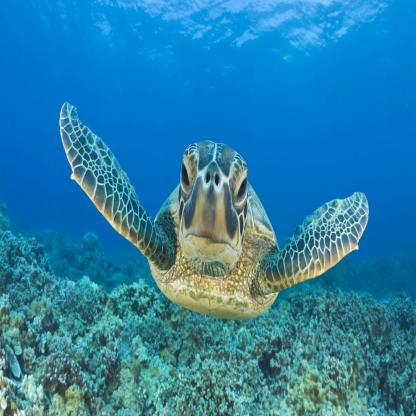turtle: (176, 133, 251, 288)
